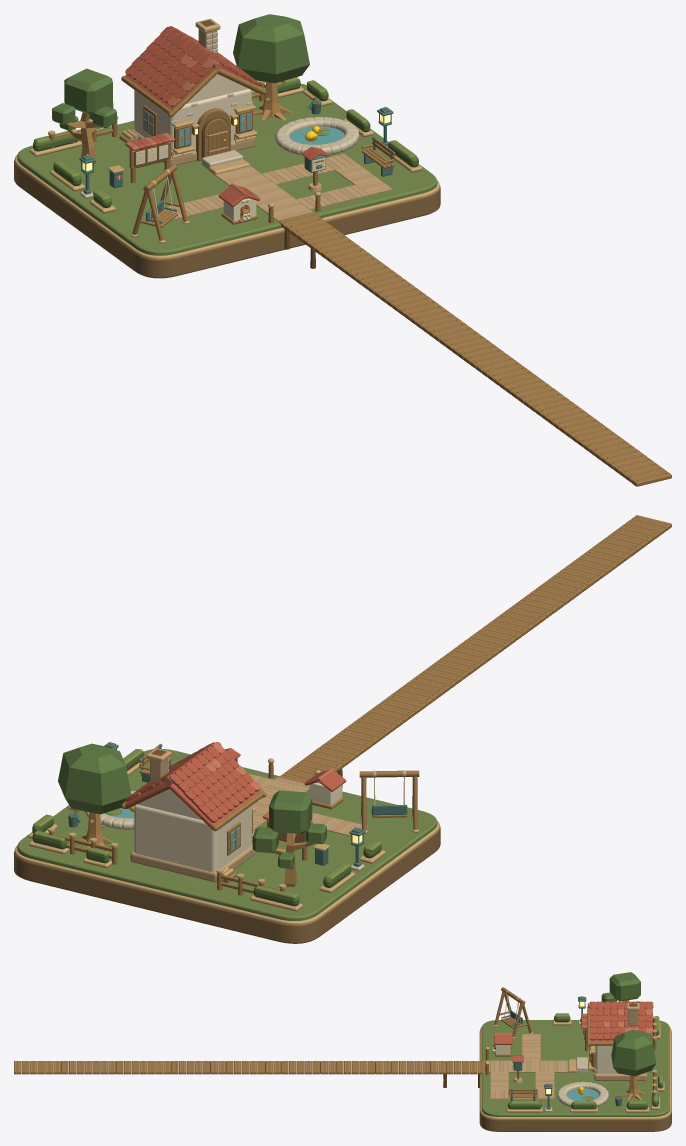
The model's file is vivi-island.glb.
3 views of the same model, one above another, from view 1: azimuth 30°, elevation 25°; view 2: azimuth 150°, elevation 25°; view 3: azimuth 270°, elevation 25° (orthographic). The views are drawn at different scales.
Visible parts, largest first — view 1: Island_ground_788c4d, Dock_b98b51, Island_ground, Cottage_b85f46, Mesh_tree_oak, Cottage_b98b51, Cottage_eadbb9, Mesh_tree_detailed, Dock_d1ac73, Island_ground_d1ac73, Pond_d5c7a7, Swing_b98b51 (+5 smaller); view 2: Island_ground_788c4d, Dock_b98b51, Island_ground, Cottage_eadbb9, Cottage_b85f46, Mesh_tree_oak, Mesh_tree_detailed, Dock_d1ac73, Island_ground_d1ac73, Cottage_c2a275, Fence_b98b51, Swing_b98b51 (+4 smaller); view 3: Island_ground_788c4d, Dock_b98b51, Island_ground, Cottage_b85f46, Mesh_tree_oak, Mesh_tree_detailed, Island_ground_d1ac73, Dock_d1ac73, Pond_d5c7a7, Swing_b98b51, Cottage_eadbb9, Cottage_c2a275 (+9 smaller).
Part boxes in pixels (<box>): Island_ground_788c4d: <box>17,84,437,255</box>; Dock_b98b51: <box>279,213,671,486</box>; Island_ground: <box>14,160,440,278</box>; Cottage_b85f46: <box>125,26,260,109</box>; Mesh_tree_oak: <box>233,14,309,83</box>; Cottage_b98b51: <box>121,69,266,161</box>; Cottage_eadbb9: <box>134,74,251,153</box>; Mesh_tree_detailed: <box>52,68,116,130</box>; Dock_d1ac73: <box>283,214,667,481</box>; Island_ground_d1ac73: <box>14,155,439,259</box>; Pond_d5c7a7: <box>275,117,359,155</box>; Swing_b98b51: <box>132,164,187,240</box>; Island_ground_788c4d: <box>17,749,437,920</box>; Dock_b98b51: <box>279,515,671,783</box>; Island_ground: <box>14,826,440,943</box>; Cottage_eadbb9: <box>134,789,251,871</box>; Cottage_b85f46: <box>125,742,260,829</box>; Mesh_tree_oak: <box>58,743,131,814</box>; Mesh_tree_detailed: <box>252,790,326,868</box>; Dock_d1ac73: <box>282,516,667,782</box>; Island_ground_d1ac73: <box>14,820,439,924</box>; Cottage_c2a275: <box>130,758,255,882</box>; Fence_b98b51: <box>49,832,285,895</box>; Swing_b98b51: <box>359,770,419,830</box>; Island_ground_788c4d: <box>481,1020,669,1116</box>; Dock_b98b51: <box>14,1061,485,1074</box>; Island_ground: <box>479,1031,671,1131</box>; Cottage_b85f46: <box>589,1001,652,1041</box>; Mesh_tree_oak: <box>611,1029,656,1076</box>; Mesh_tree_detailed: <box>601,972,640,1002</box>; Island_ground_d1ac73: <box>480,1027,671,1119</box>; Dock_d1ac73: <box>15,1061,479,1070</box>; Pond_d5c7a7: <box>557,1081,608,1107</box>; Swing_b98b51: <box>494,987,531,1037</box>; Cottage_eadbb9: <box>595,1045,645,1073</box>; Cottage_c2a275: <box>594,1010,647,1080</box>.
Size of the model in its own units: 12.61 by 5.29 by 36.29.
Materials: 31 (1 with a texture image).
